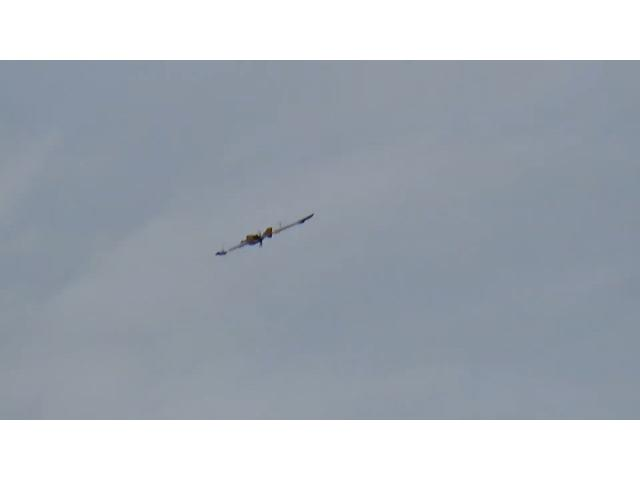Anti-Drone: (215, 215, 313, 257)
